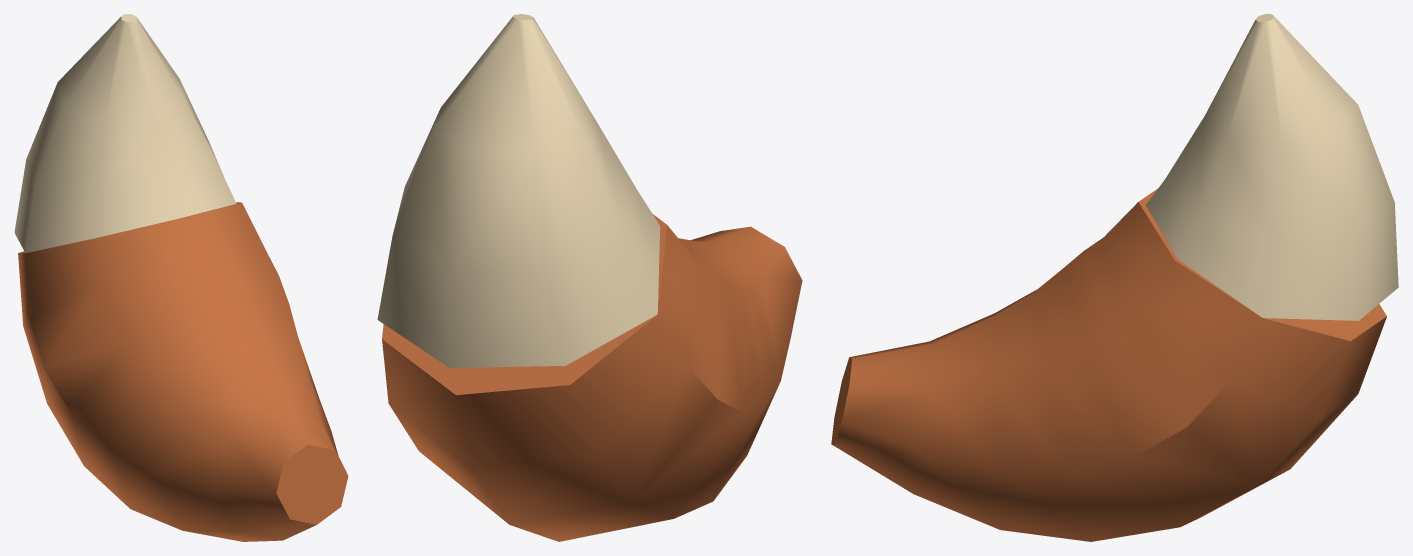
The model's file is liora_tail.fbx.
The picture shows the model from 3 angles, left to right: view 1: azimuth 30°, elevation 25°; view 2: azimuth 150°, elevation 25°; view 3: azimuth 270°, elevation 25°; orthographic projection. The views are drawn at different scales.
Visible parts, largest first — view 1: liora_tail; view 2: liora_tail; view 3: liora_tail.
Boxes of the visible parts, left/top/right/bottom form: liora_tail: left=14, top=14, right=348, bottom=541; liora_tail: left=377, top=14, right=802, bottom=541; liora_tail: left=831, top=14, right=1398, bottom=541.
Bounding box in the file's own units: 0.66 × 1.19 × 1.18.
